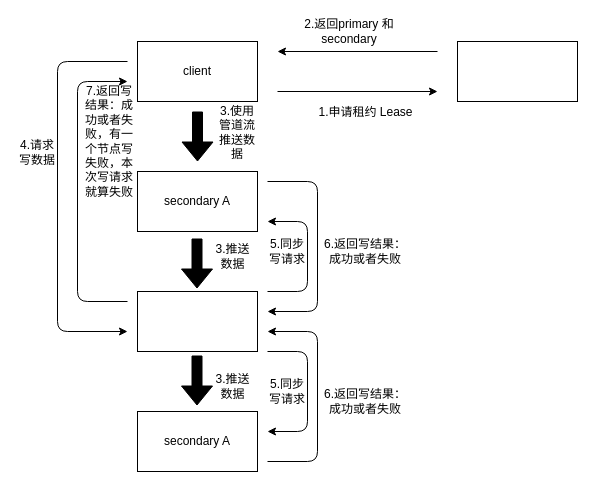
The diagram is 595 pixels wide and 489 high, and some of its shapes have lost their labels. Here are the shapes that lost their labels. From the top down, the box of each, then its label:
(456, 40, 578, 102): master
(136, 290, 258, 352): primary
